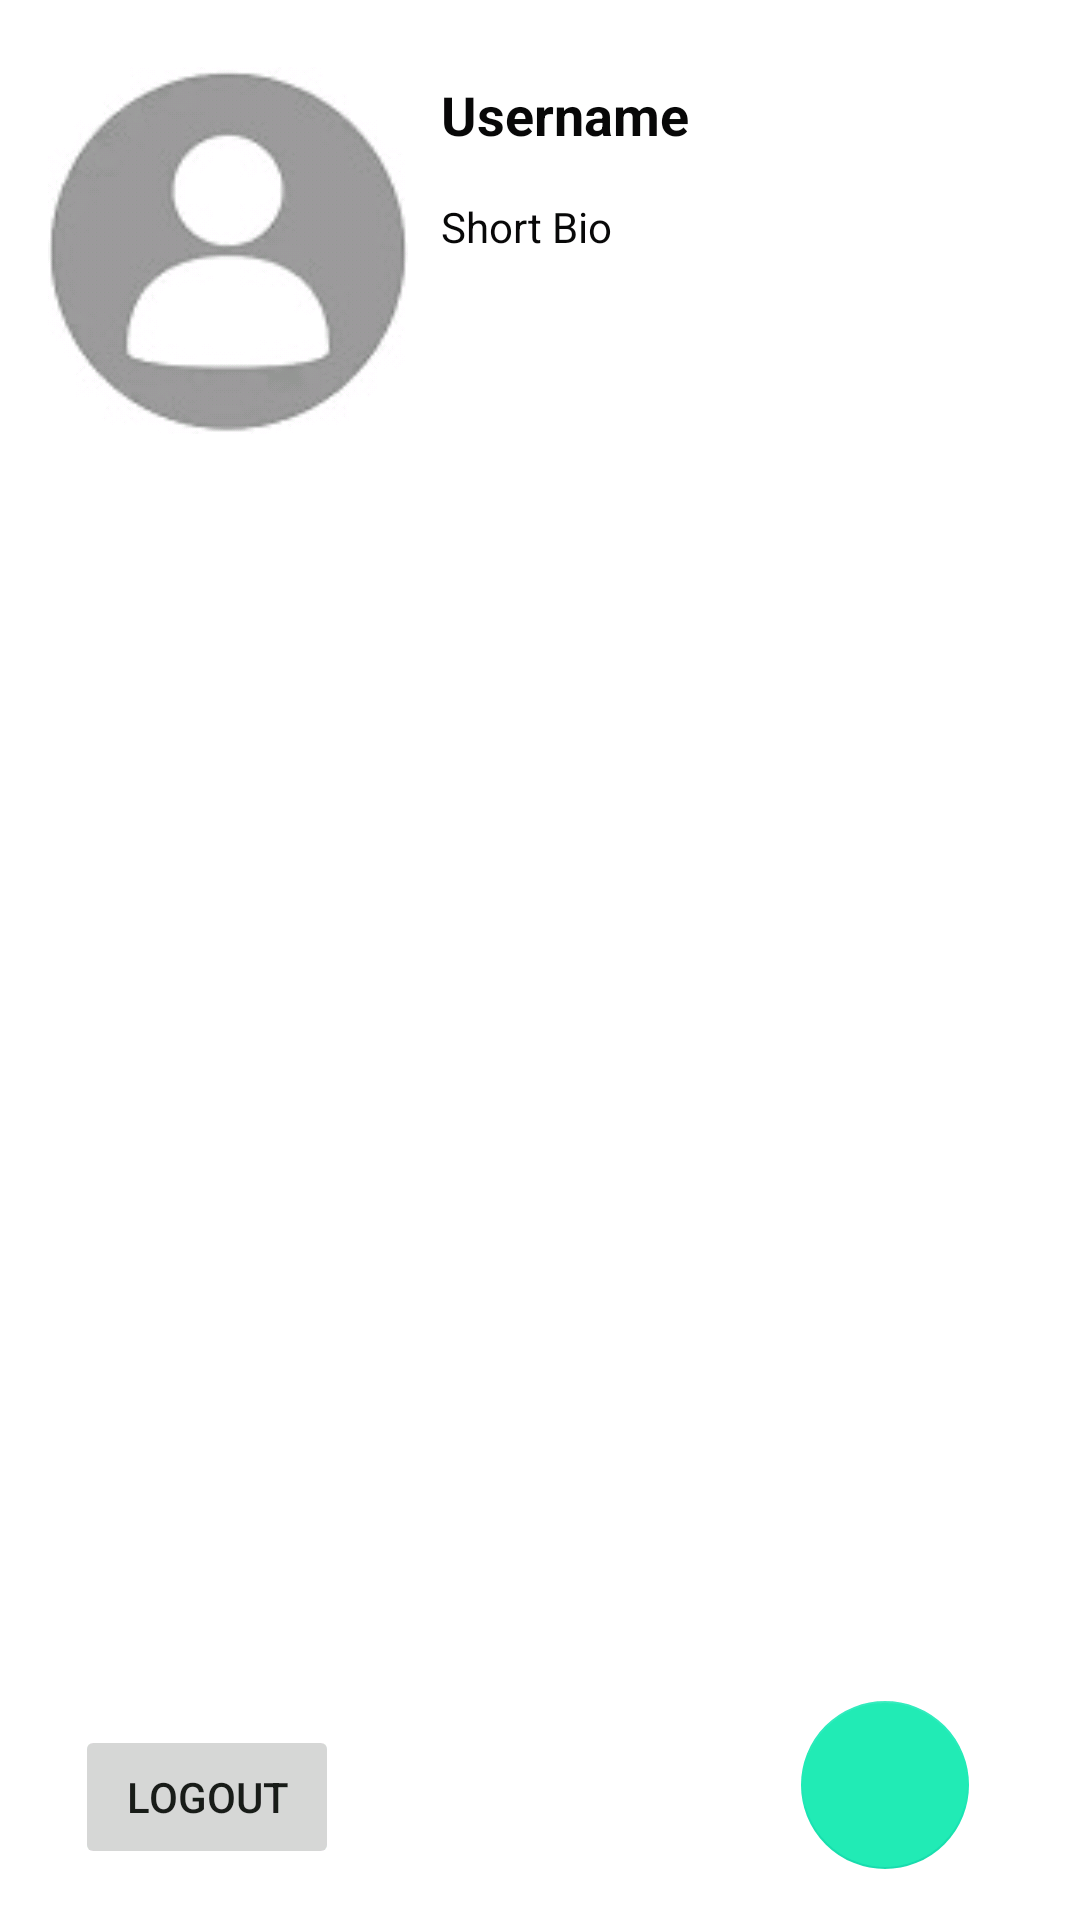

Named icons in this screenshot (1080w x 1920h) and their centers, [x,y]:
profilepicture: [228,252]
